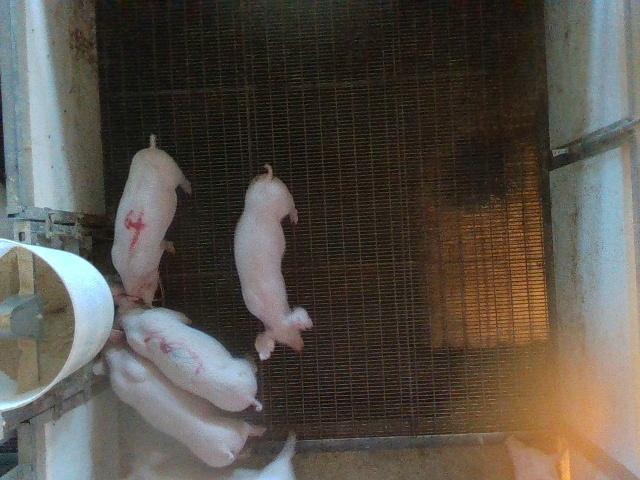pig-4: (120, 308, 261, 411), (111, 135, 191, 306)
